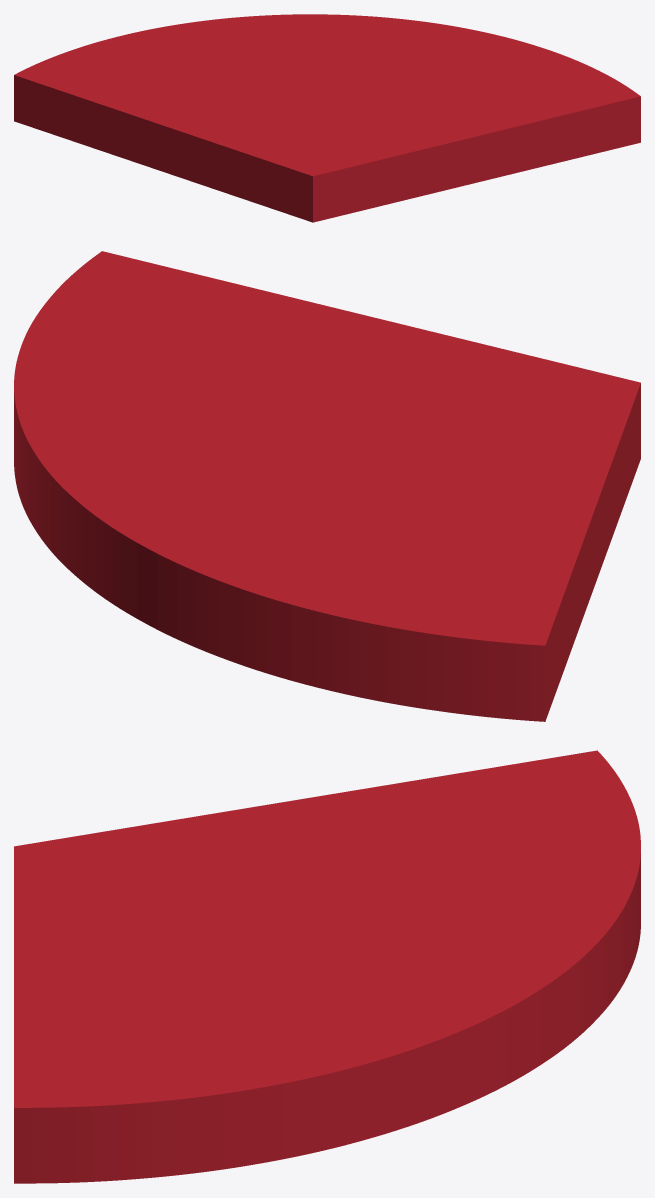
The model's file is want30.gltf.
3 views of the same model, one above another, from view 1: azimuth 30°, elevation 25°; view 2: azimuth 150°, elevation 25°; view 3: azimuth 270°, elevation 25° (orthographic). The views are drawn at different scales.
Visible parts, largest first — view 1: 30wants; view 2: 30wants; view 3: 30wants.
Part boxes in pixels (left/top/right/bottom): 30wants: left=14, top=14, right=640, bottom=222; 30wants: left=14, top=251, right=640, bottom=721; 30wants: left=14, top=750, right=640, bottom=1183.
Size of the model in its own units: 2.68 by 0.2649 by 1.99.
